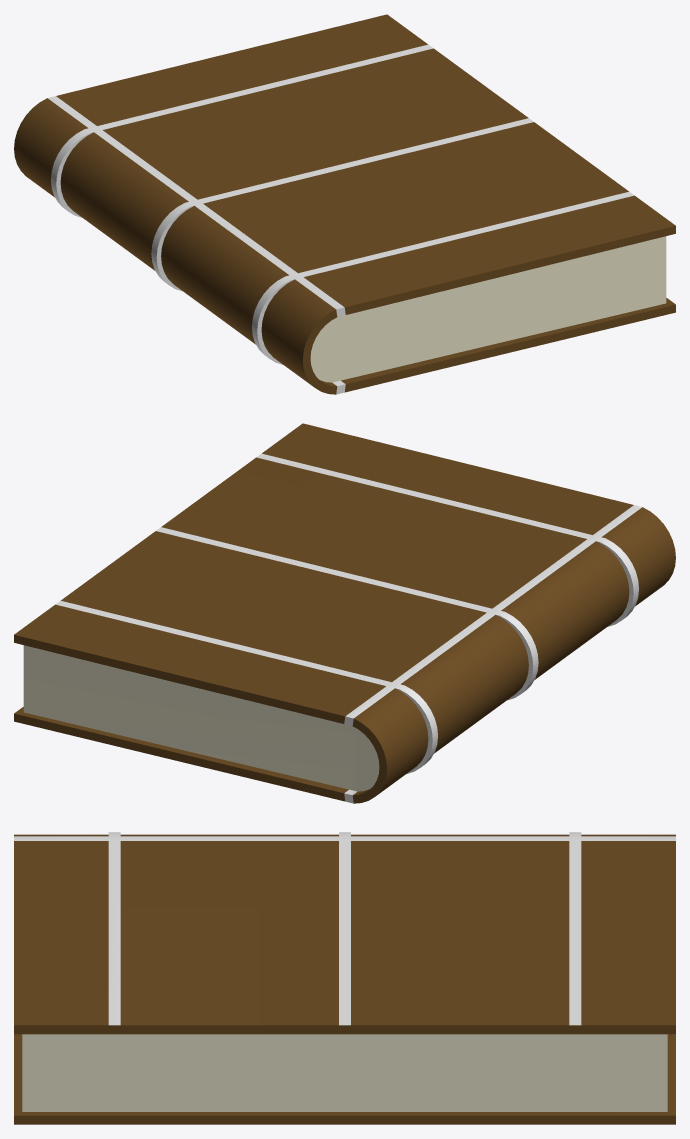
File: present_book.fbx
The picture shows the model from 3 angles, top to bottom: view 1: azimuth 30°, elevation 25°; view 2: azimuth 150°, elevation 25°; view 3: azimuth 270°, elevation 25°; orthographic projection. The views are drawn at different scales.
Parts seen in each view (by area): view 1: Cylinder; view 2: Cylinder; view 3: Cylinder.
Part boxes in pixels (x1,y1,x2,y2): Cylinder: (14, 14, 675, 394); Cylinder: (14, 423, 675, 803); Cylinder: (14, 832, 675, 1124).
Size of the model in its own units: 910 by 200 by 1206.
